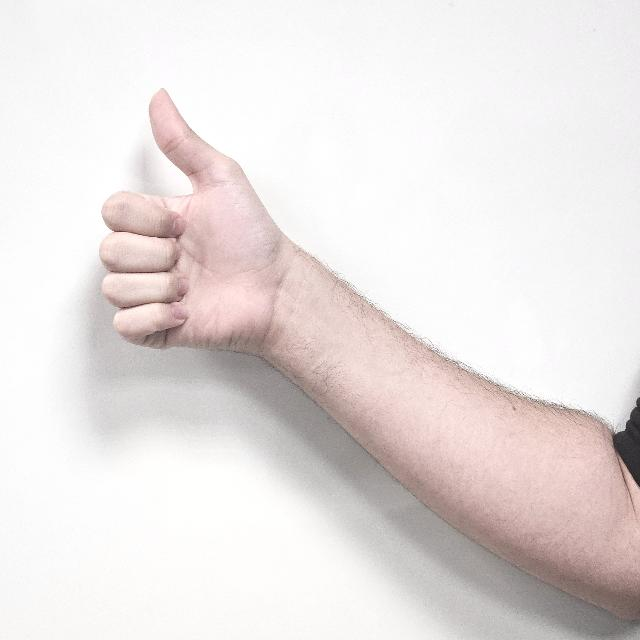Start: (98, 80, 292, 374)
